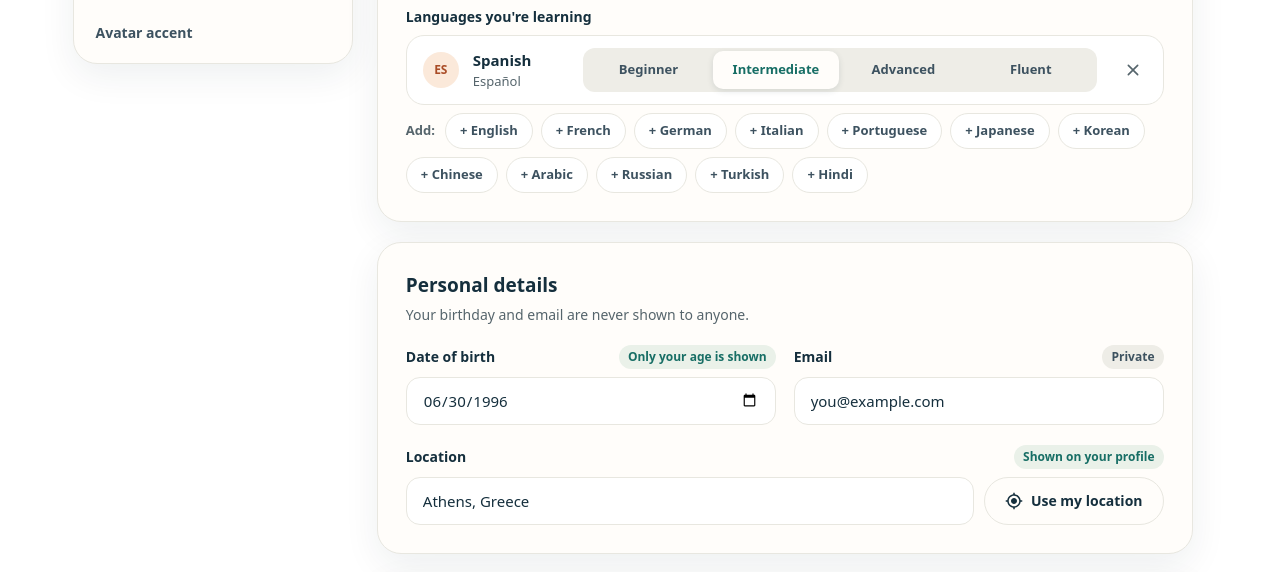
Test: EditProfilePage › a wrong current password is shown next to the field
(page scrolled)
Replace the text in the field labelled "Email" with "new@example.com" at (979, 400), box [794,376,1164,424]
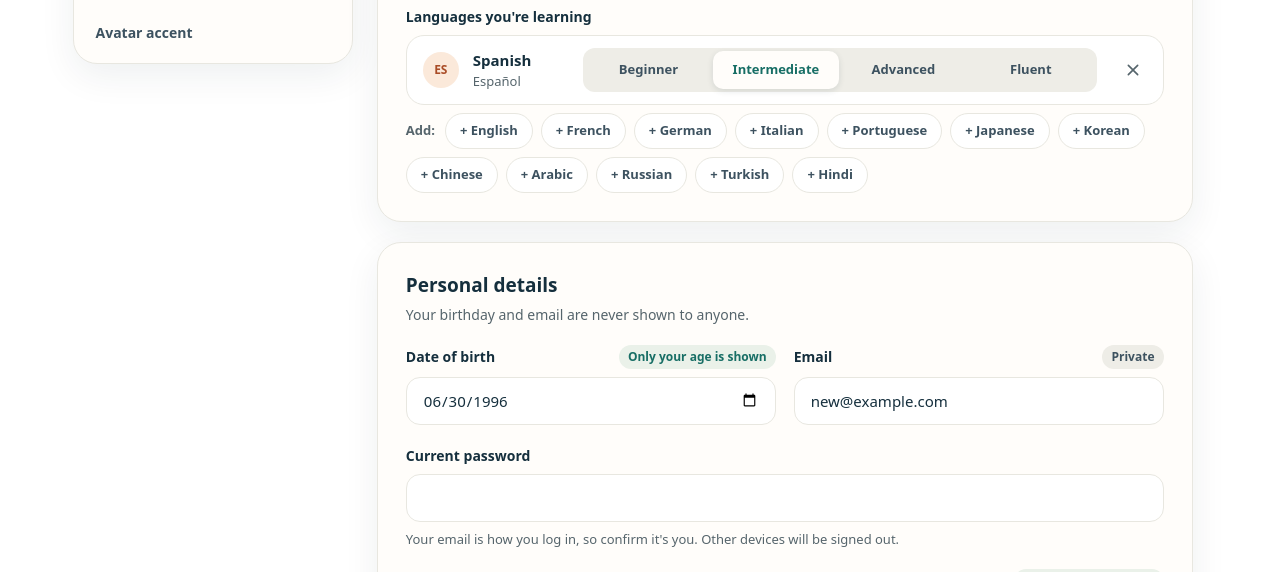
Type "wrong" into the password field labelled "Current password".
click(785, 498); type("wrong")  # box [406,474,1164,522]
(page scrolled)
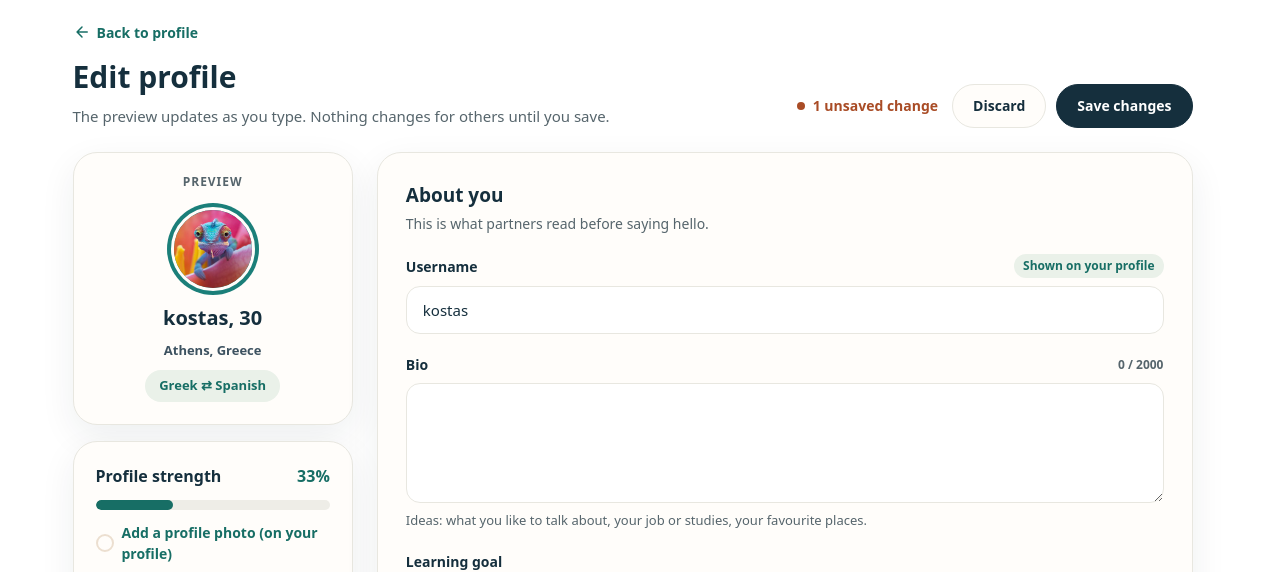
Click the button "Save changes".
click(1124, 106)  # box [1056,84,1192,128]
(page scrolled)
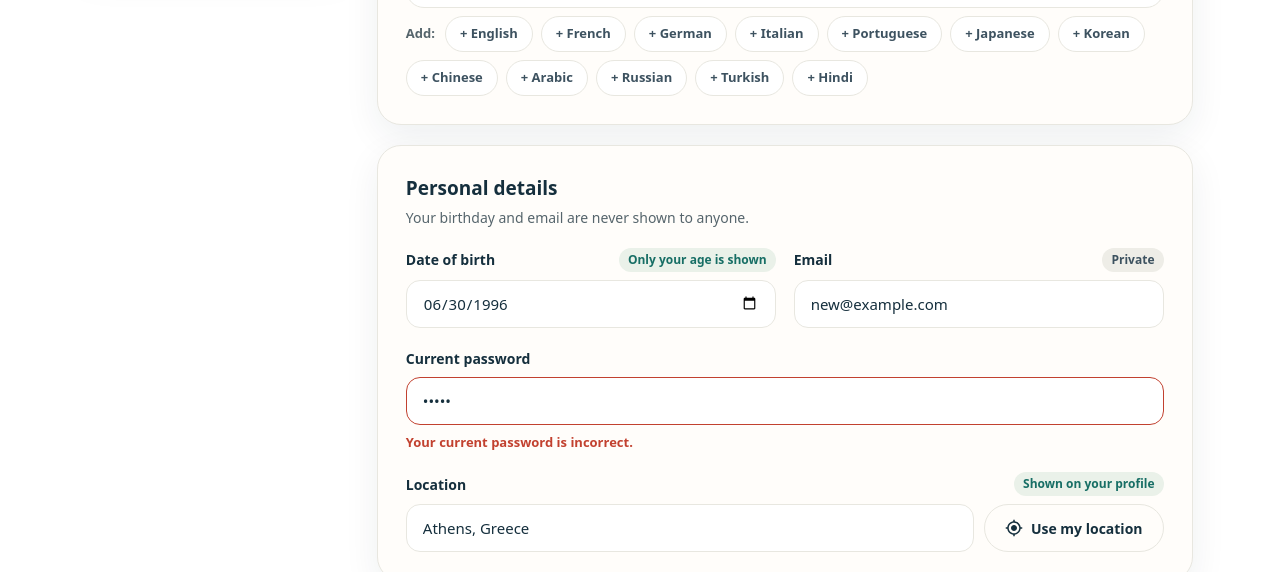
Expected: the message reads "Your current password is incorrect.", [406,432,633,450]
